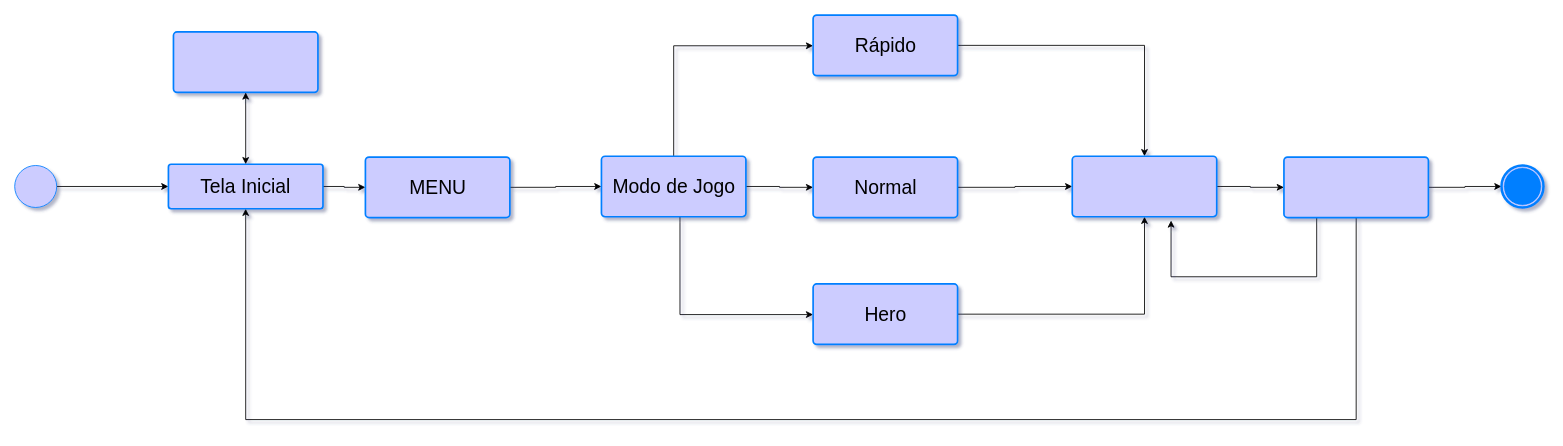
Some shapes in this 1563 by 446 pixel diagram are drawn without their labels. Here are the shapes that lost their labels. From the top down, the box of each, then its label:
(172, 31, 318, 93): Créditos
(1071, 155, 1217, 217): TIC-TAC-TOE Hero
(1283, 156, 1429, 218): Vitória
